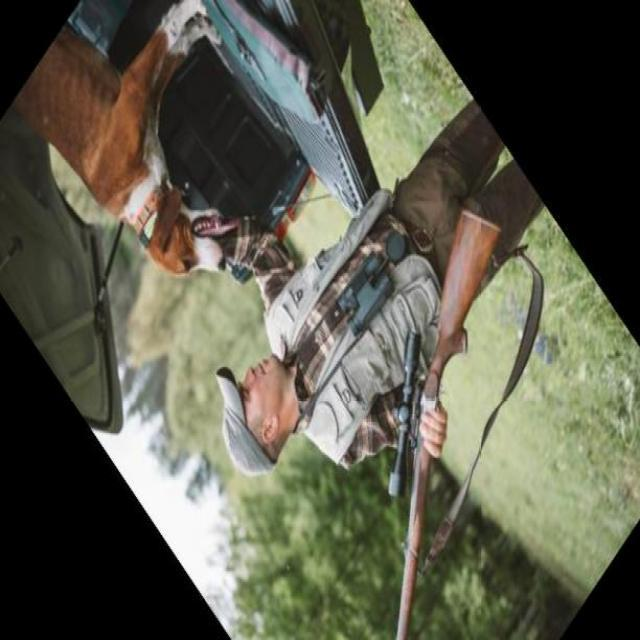weapon: (388, 209, 502, 640)
